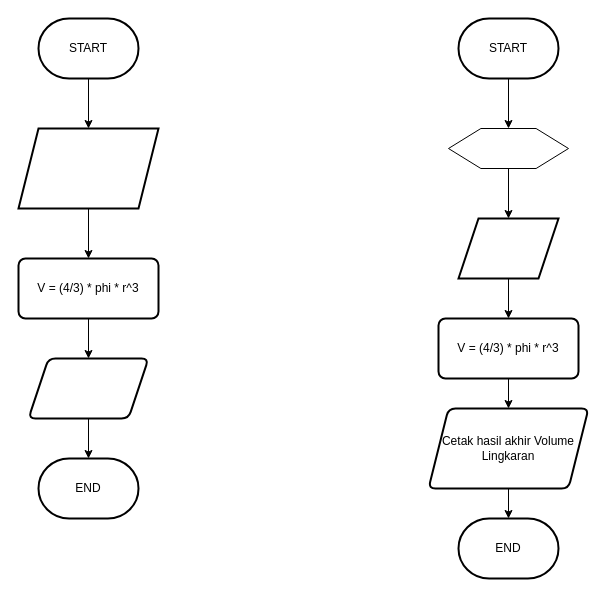
The diagram is 606 pixels wide and 596 high, and some of its shapes have lost their labels. The shapes that lost their labels are listed below. From the top down, each one's centre as x and y in pixels, then its label:
At pixel 88 168: "VOLUME LINGKARAN phi r".
At pixel 508 148: "phi = 22/7".
At pixel 508 248: "r = 5".
At pixel 88 388: "VOLUME LINGKARAN".
